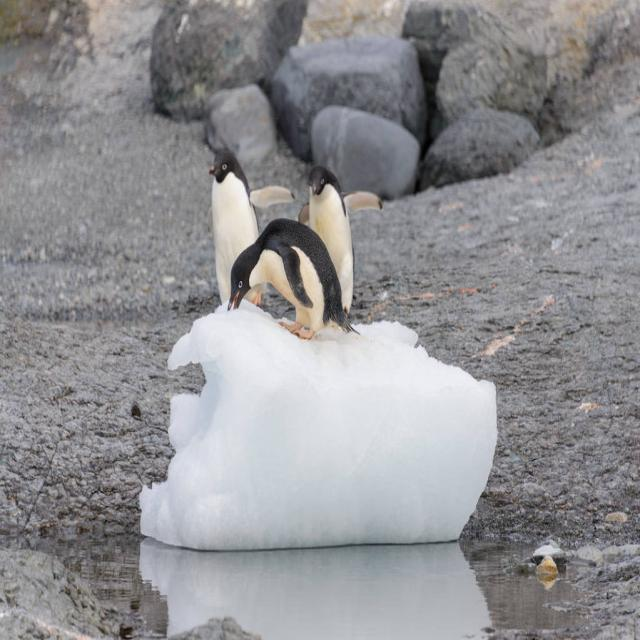Penguins: (223, 220, 356, 345), (202, 145, 264, 321), (306, 160, 356, 336)
